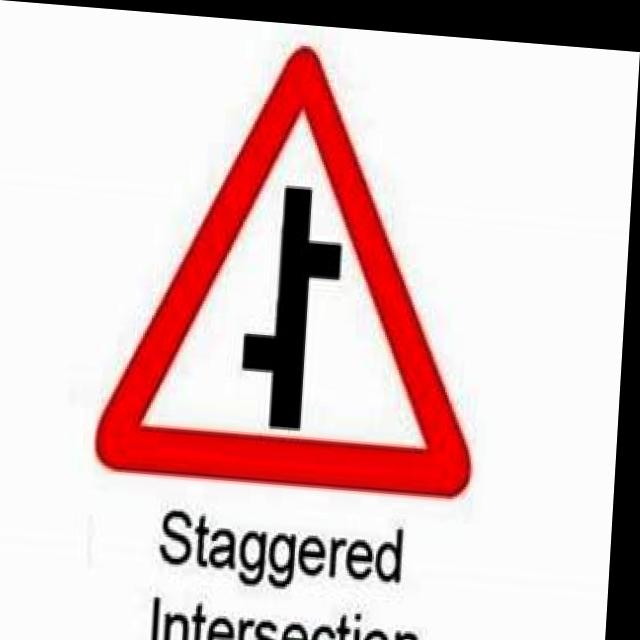STAGGERED_INTERSECTION: (92, 23, 509, 502)
